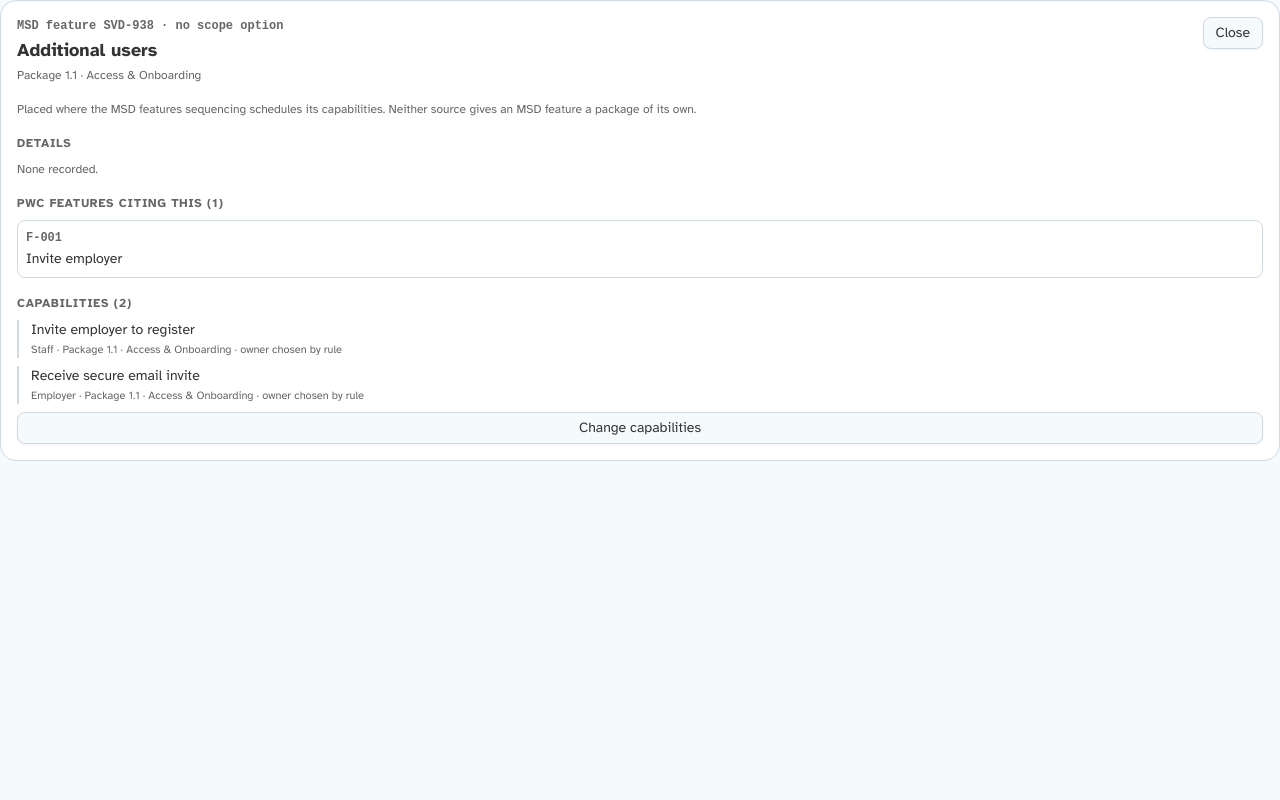
Test case: MvpDetailPanel — capabilities it owns › surfaces the server’s refusal in place
Click the button "Change capabilities" at (640, 428), box [17,412,1263,444]
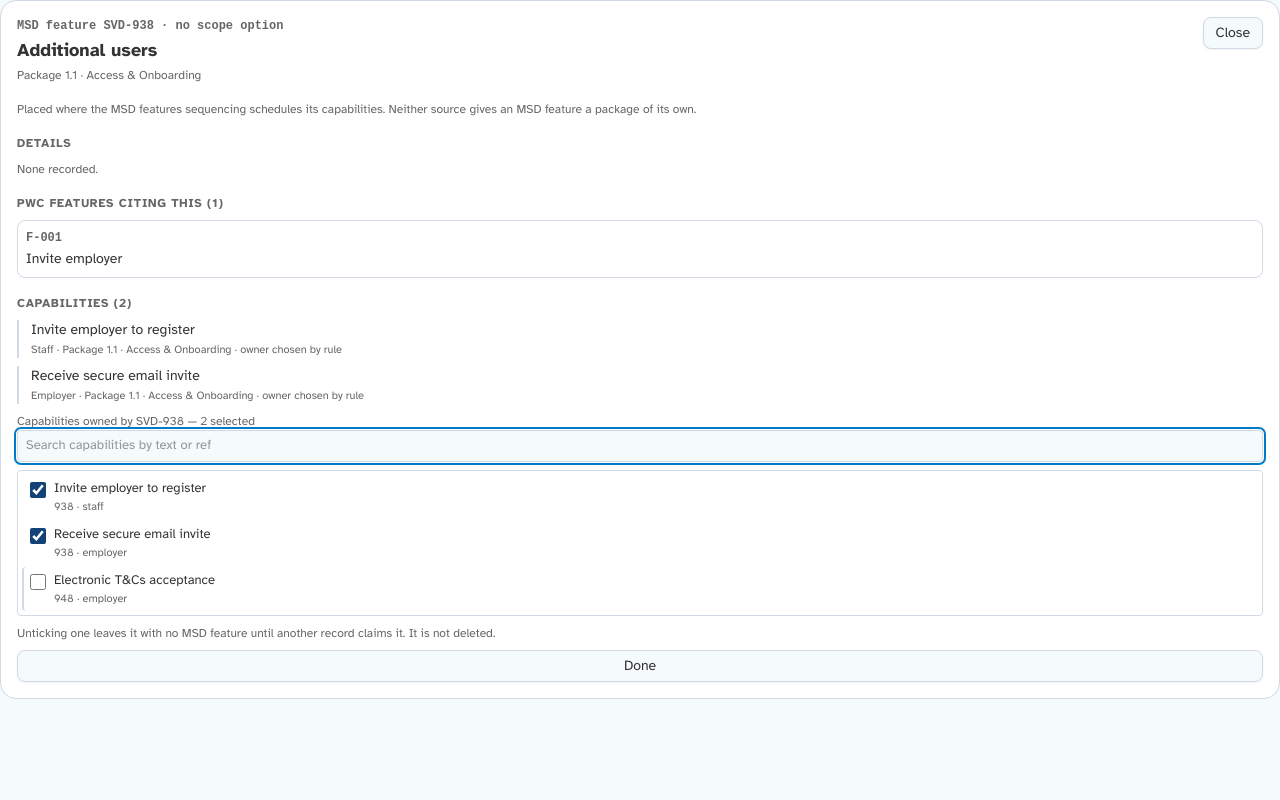
Click the checkbox labelled "Electronic T&Cs acceptance 948 · employer" at (38, 582), box [30,574,46,590]
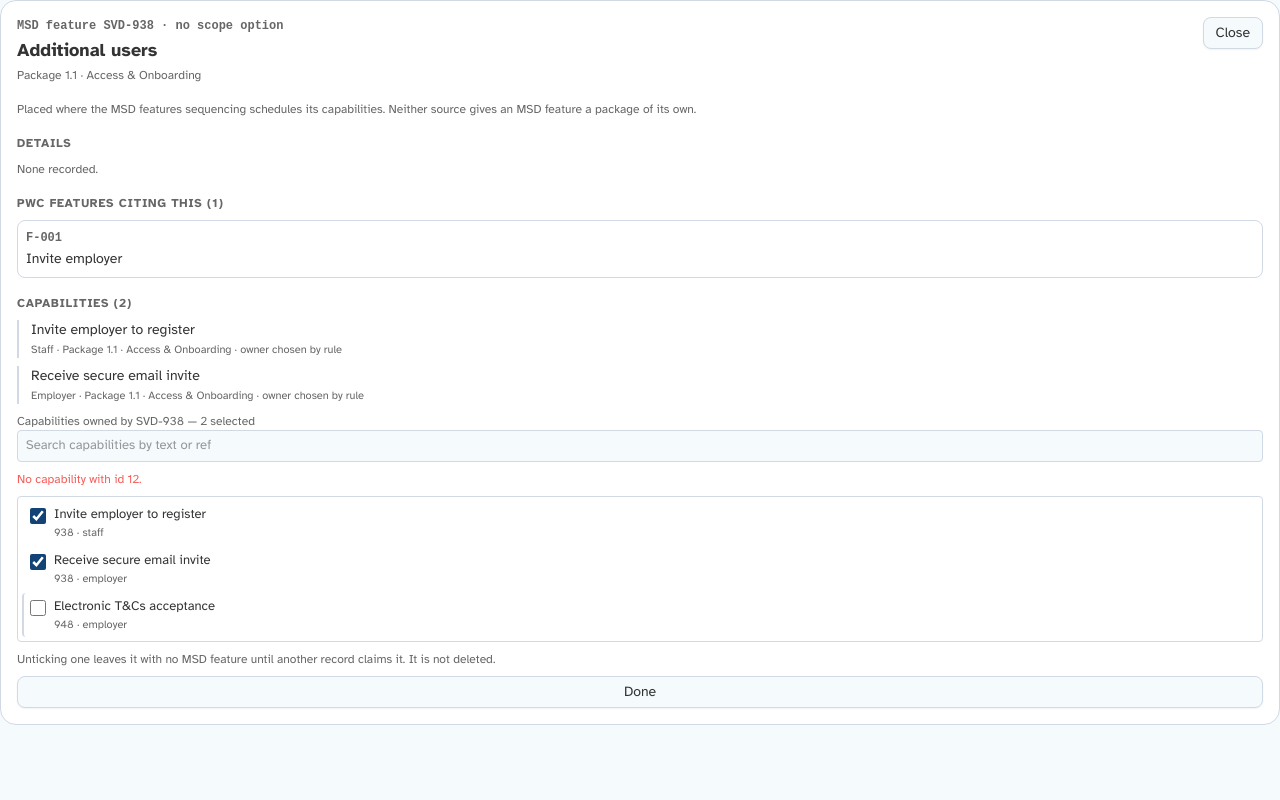
Check: the message reads "No capability with id 12.", box [17,472,142,486]
